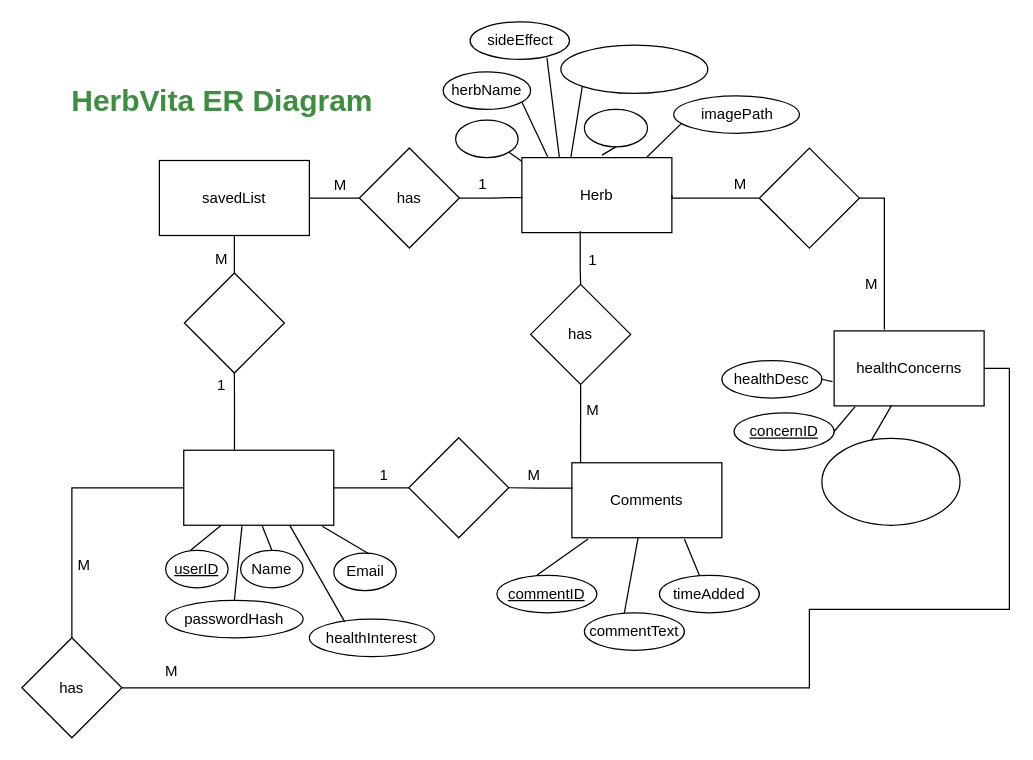
The diagram is 1033 pixels wide and 760 high, and some of its shapes have lost their labels. The shapes that lost their labels are listed below. From the top down, each one's box as (x1, y1, x2, y2) in pixels, then its label:
(560, 44, 708, 93): recommendedUsage
(454, 119, 518, 158): herbID
(583, 108, 648, 147): Benifit
(758, 147, 859, 248): address
(183, 272, 284, 373): has a
(182, 449, 334, 525): User
(408, 436, 509, 538): post
(821, 437, 960, 525): concernName e.g. Digestive Issues, Immune Support
